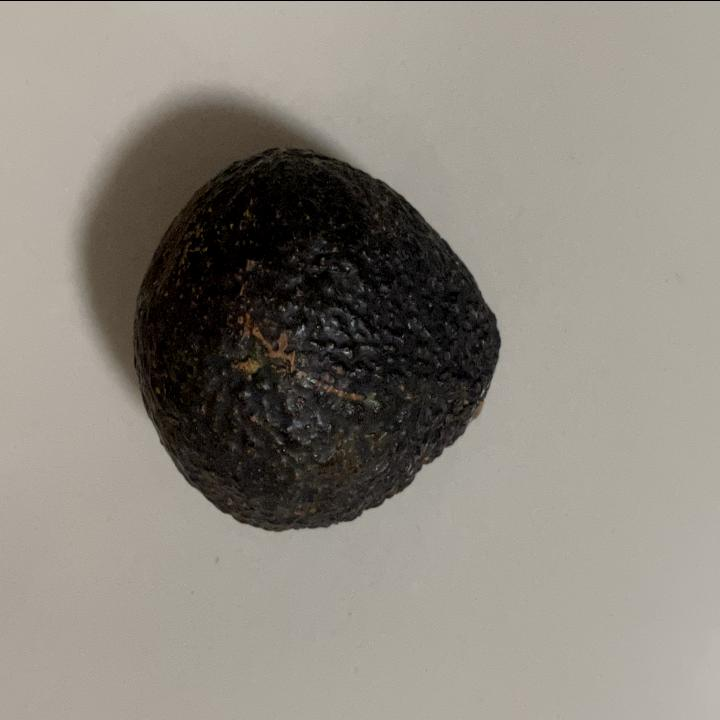Level2: (126, 138, 510, 538)
